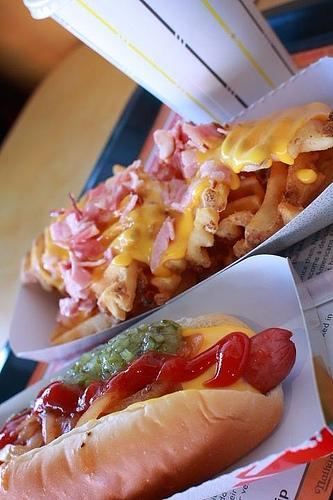onion: (103, 380, 183, 413), (74, 390, 142, 428), (0, 432, 43, 462), (13, 422, 40, 446), (42, 412, 56, 445)
